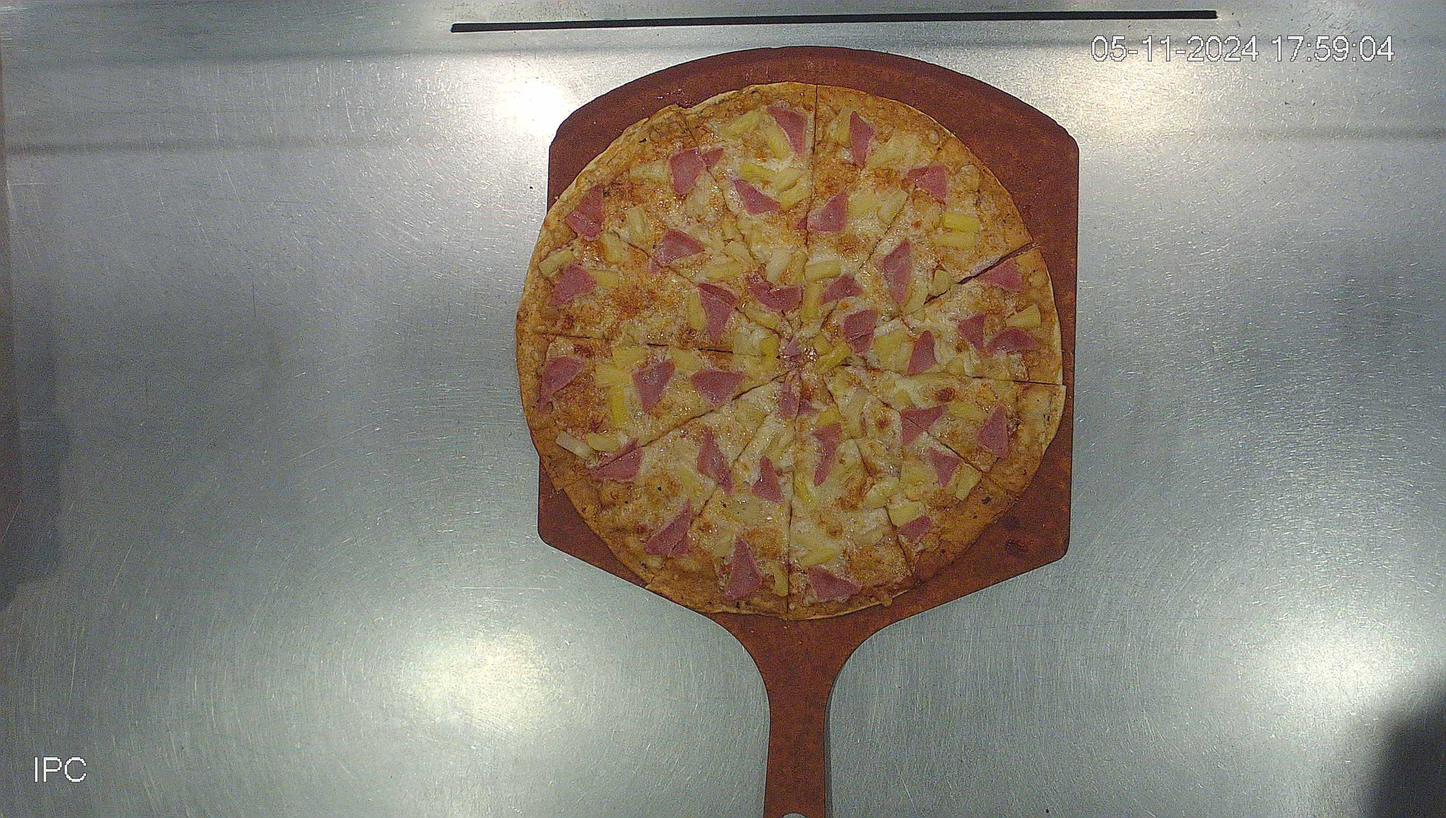manager_choice: (515, 82, 1065, 620)
